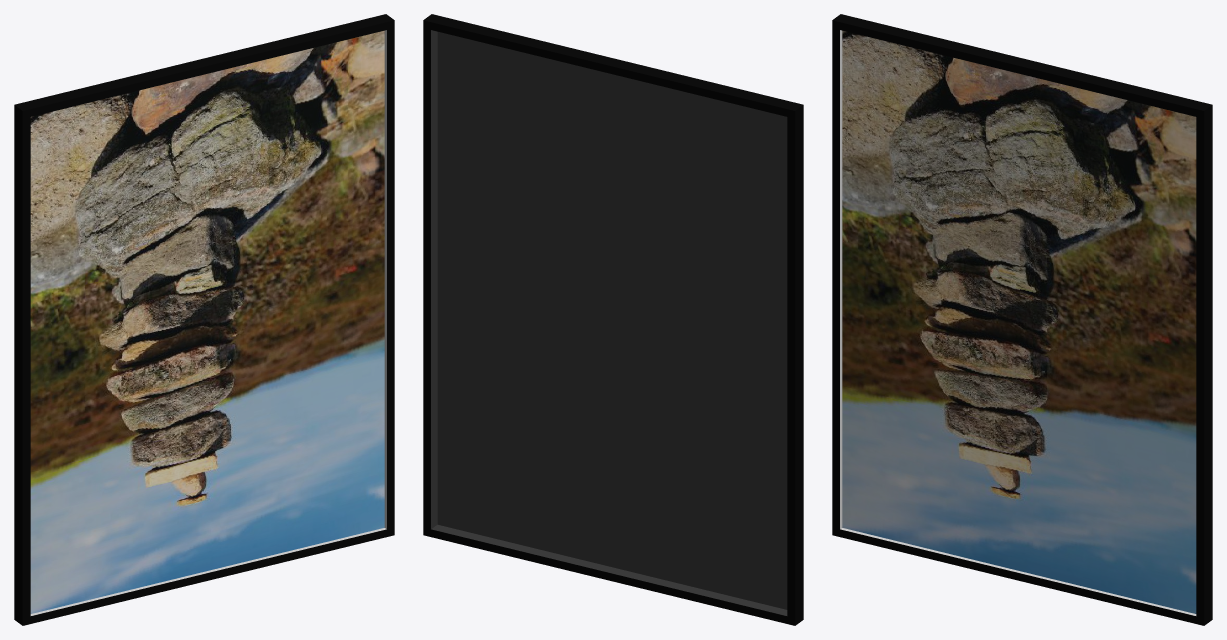
The model's file is frame_1.gltf.
3 renders of one model, left to right at view 1: azimuth 30°, elevation 25°; view 2: azimuth 150°, elevation 25°; view 3: azimuth 330°, elevation 25°, orthographic.
Visible parts, largest first — view 1: Material3 (×2), Material2; view 2: Material3, Material2; view 3: Material3 (×2), Material2.
Boxes of the visible parts, <box> form: Material3 (×2): <box>30,30,386,615</box>; Material2: <box>14,14,394,625</box>; Material3: <box>431,30,787,615</box>; Material2: <box>423,14,803,625</box>; Material3 (×2): <box>840,30,1196,615</box>; Material2: <box>832,14,1212,625</box>.
Size of what is drawn, in the model's own units: 24.95 by 33 by 1.
4 materials, 1 textured.
